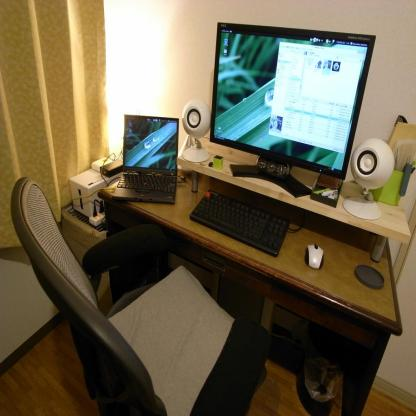board: (110, 113, 176, 207)
